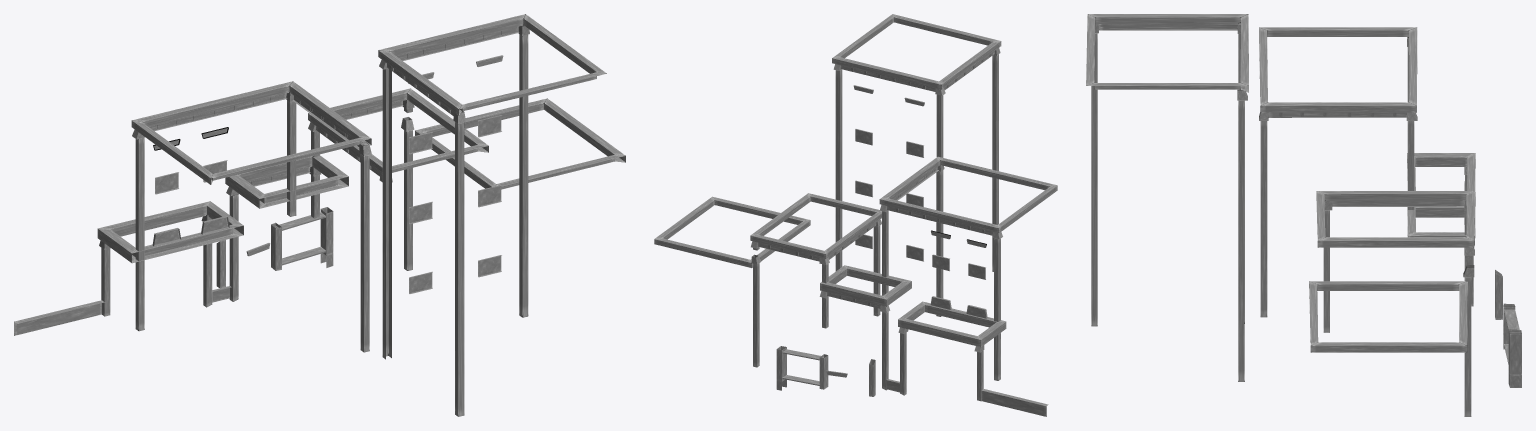
File: SM_ConcreteAccents_01.fbx
3 views of the same model, side by side, from view 1: azimuth 30°, elevation 25°; view 2: azimuth 150°, elevation 25°; view 3: azimuth 270°, elevation 25° (orthographic). The views are drawn at different scales.
Visible parts, largest first — view 1: SM_ConcreteAccents_01; view 2: SM_ConcreteAccents_01; view 3: SM_ConcreteAccents_01.
Boxes of the visible parts, box(x1,y1,x2,y2) form: SM_ConcreteAccents_01: box(14, 14, 625, 416); SM_ConcreteAccents_01: box(654, 14, 1057, 416); SM_ConcreteAccents_01: box(1086, 14, 1521, 416).
Bounding box in the file's own units: 11050 × 6630 × 7858.
